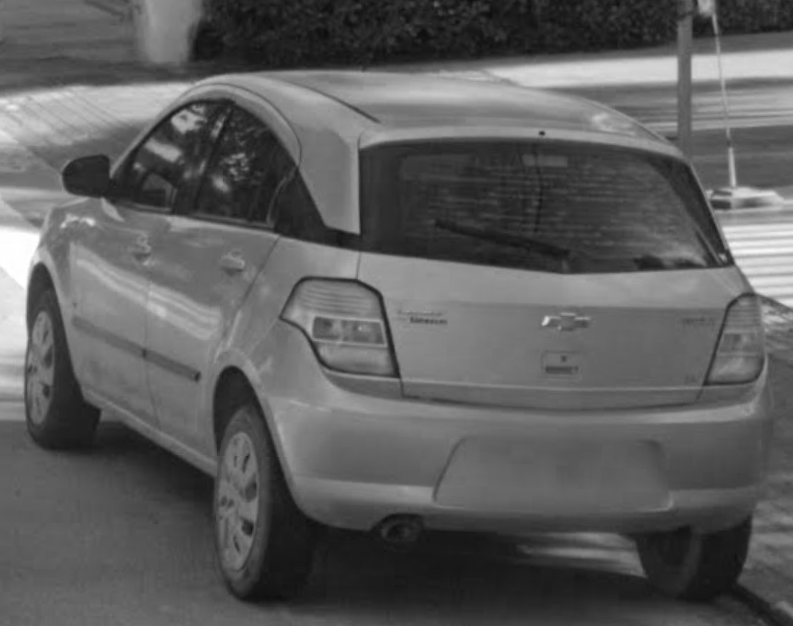car: (23, 67, 772, 607)
